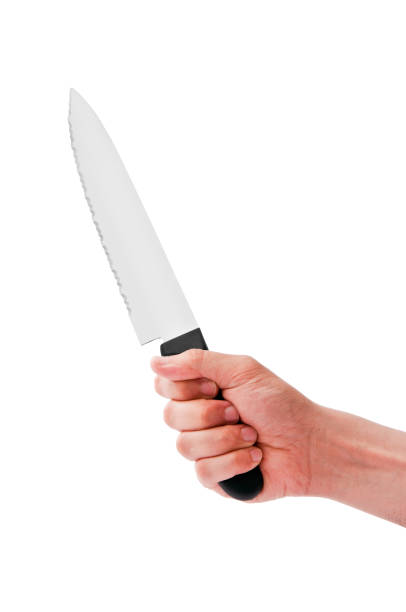knife: (68, 81, 264, 501)
